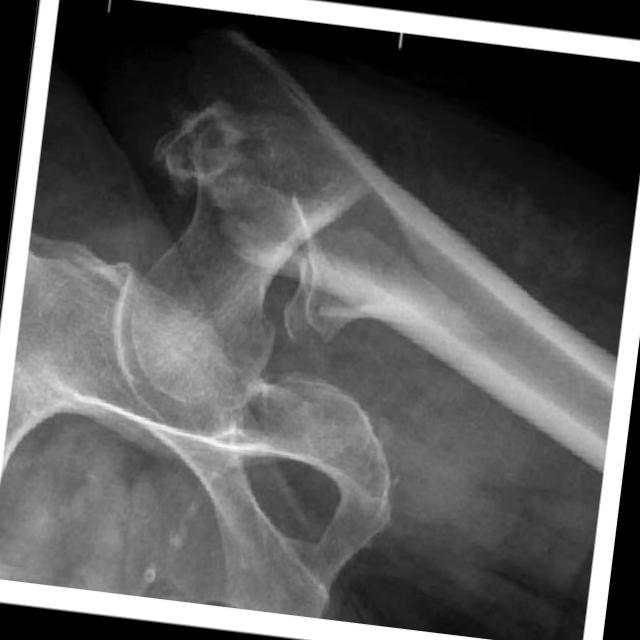left-intertrochanteric: (153, 27, 511, 368), (131, 177, 352, 402)
